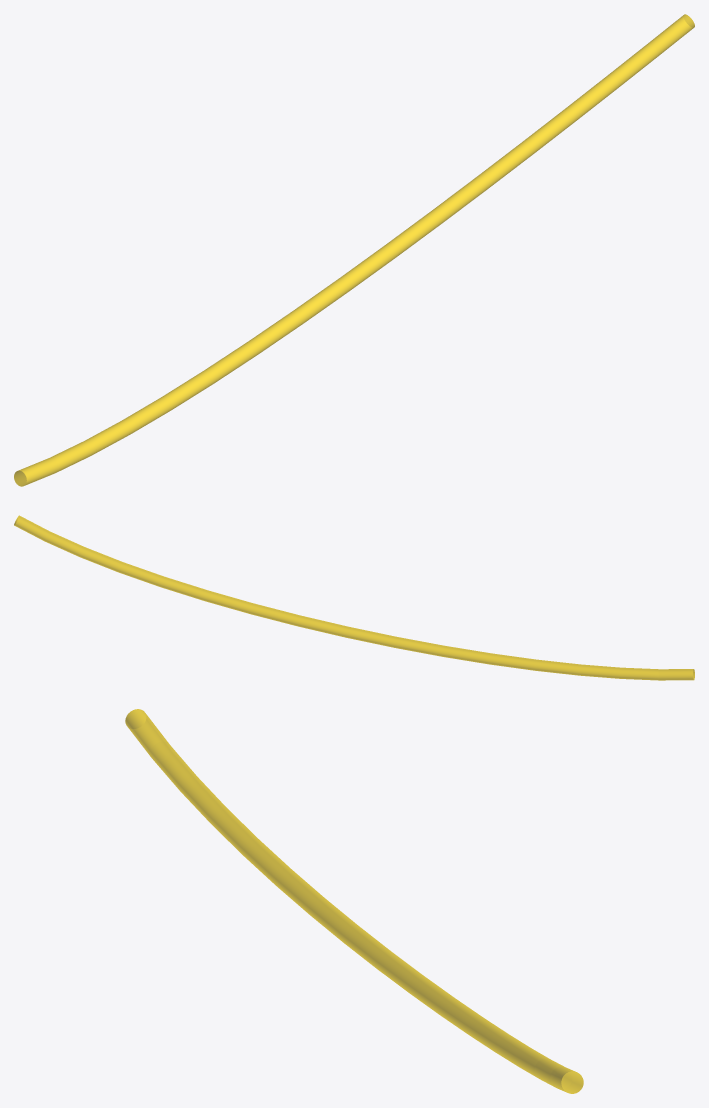
The model's file is Event_27938768_track_58.fbx.
The picture shows the model from 3 angles, top to bottom: view 1: azimuth 30°, elevation 25°; view 2: azimuth 150°, elevation 25°; view 3: azimuth 270°, elevation 25°; orthographic projection. The views are drawn at different scales.
Visible parts, largest first — view 1: Model; view 2: Model; view 3: Model.
Boxes of the visible parts, left/top/right/bottom form: Model: left=14, top=14, right=694, bottom=486; Model: left=14, top=515, right=694, bottom=680; Model: left=125, top=709, right=583, bottom=1093.
Size of the model in its own units: 2.32 by 0.4229 by 0.8067.
